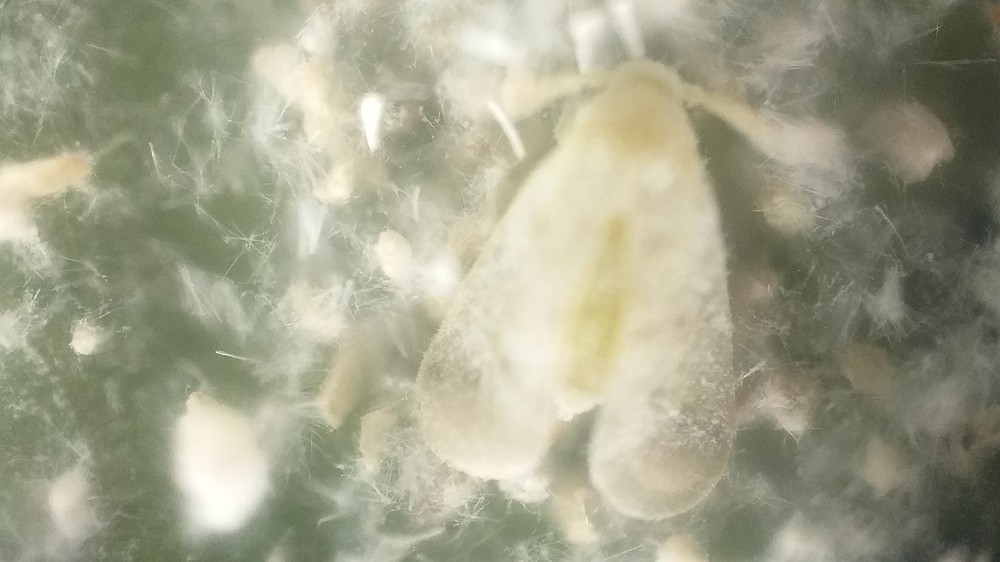Mosca Blanca: (401, 50, 853, 529)
